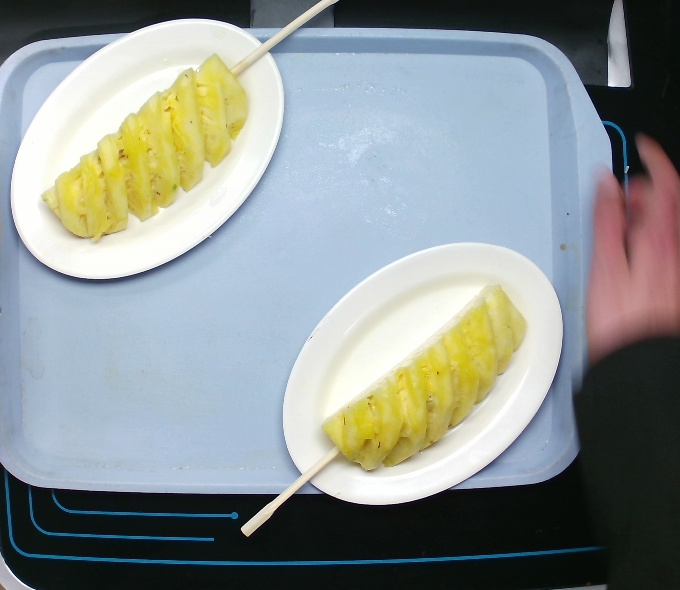wcq-BoLuo: (27, 43, 256, 260), (316, 277, 539, 479)
